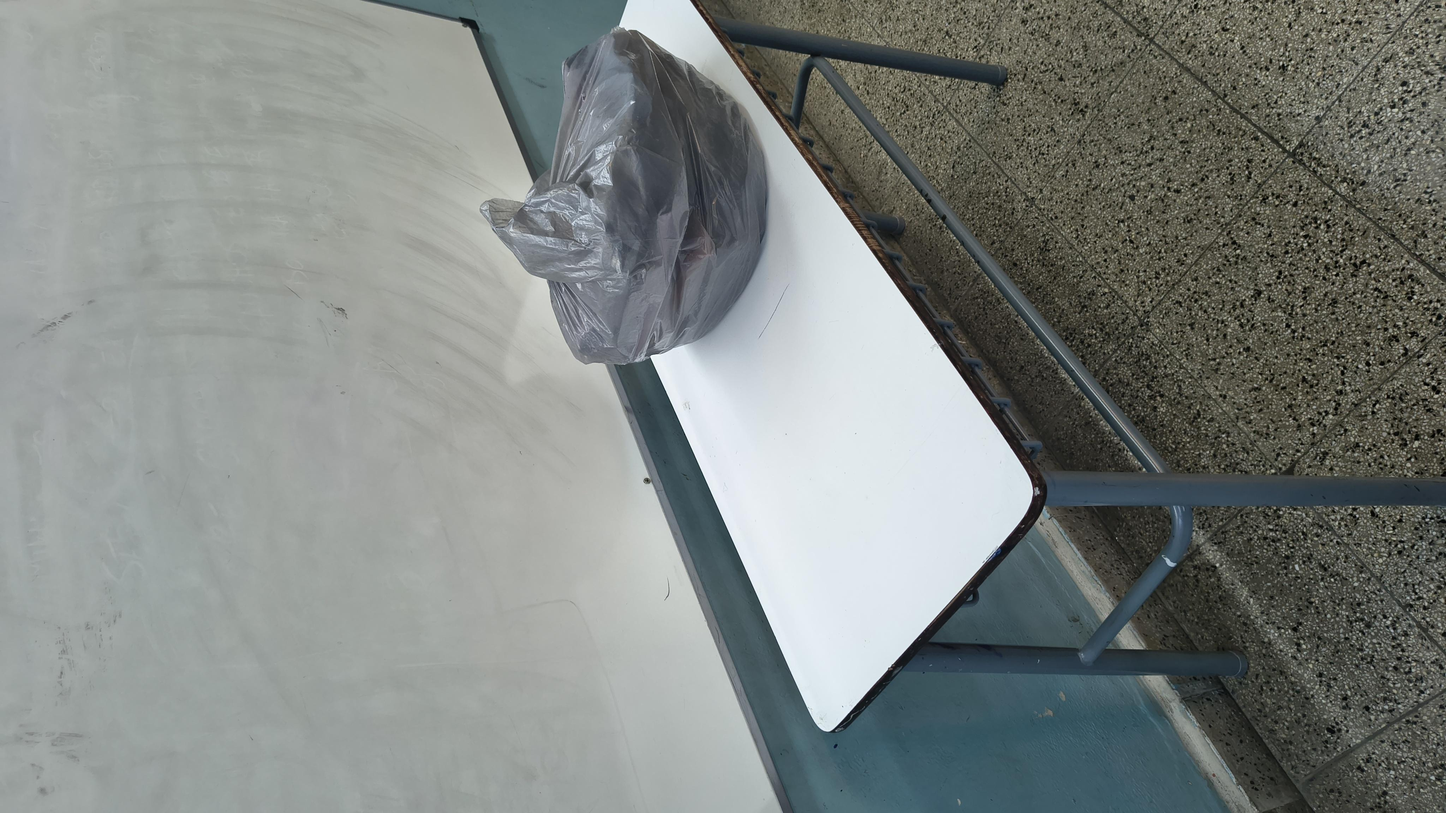Garbage: (715, 248, 1425, 447)
